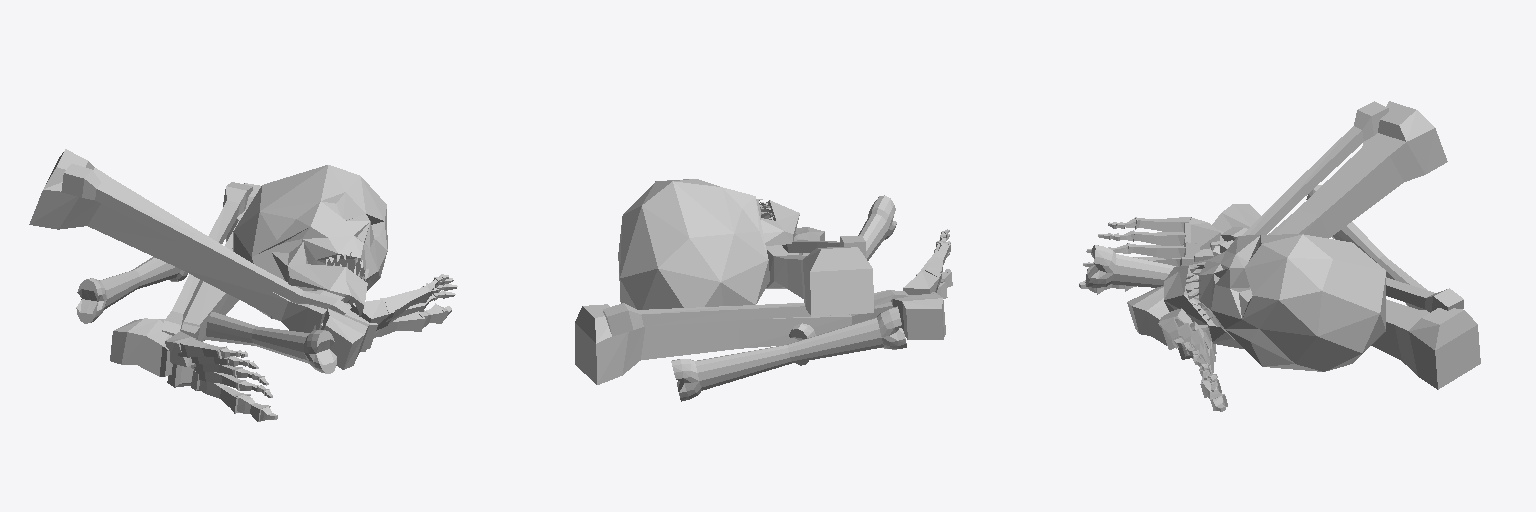
Rendered from bone_pile_2_001.obj.
3 views of the same model, side by side, from view 1: azimuth 30°, elevation 25°; view 2: azimuth 150°, elevation 25°; view 3: azimuth 270°, elevation 25° (orthographic).
Parts seen in each view (by area): view 1: bone_and_leg_pile_with_skull_Cylinder.003; view 2: bone_and_leg_pile_with_skull_Cylinder.003; view 3: bone_and_leg_pile_with_skull_Cylinder.003.
Part boxes in pixels (bbox=[...]): bone_and_leg_pile_with_skull_Cylinder.003: bbox=[29, 149, 457, 421]; bone_and_leg_pile_with_skull_Cylinder.003: bbox=[575, 179, 952, 401]; bone_and_leg_pile_with_skull_Cylinder.003: bbox=[1079, 101, 1480, 411].
Size of the model in its own units: 1.37 by 0.6837 by 1.44.